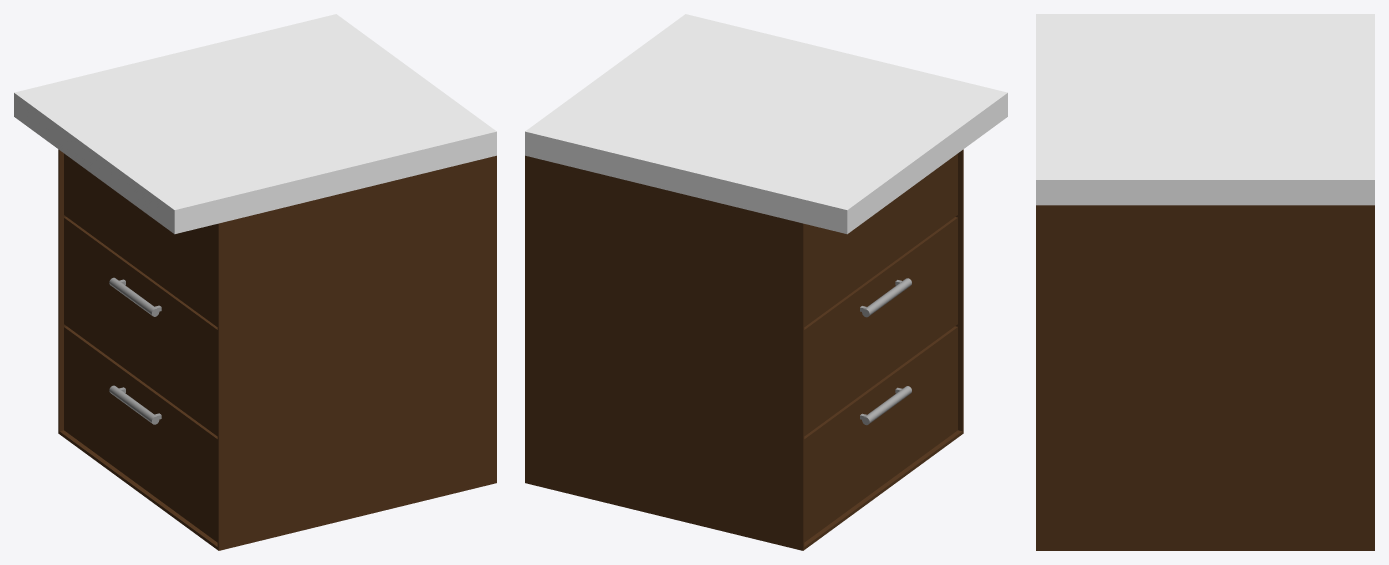
The model's file is Counter 2.fbx.
3 renders of one model, left to right at view 1: azimuth 30°, elevation 25°; view 2: azimuth 150°, elevation 25°; view 3: azimuth 270°, elevation 25°, orthographic. The views are drawn at different scales.
Parts seen in each view (by area): view 1: Counter 2; view 2: Counter 2; view 3: Counter 2.
Boxes of the visible parts, x1,y1,x2,y2 form: Counter 2: [14, 14, 496, 550]; Counter 2: [525, 14, 1007, 550]; Counter 2: [1036, 14, 1374, 550].
Size of the model in its own units: 116 by 121 by 100.
